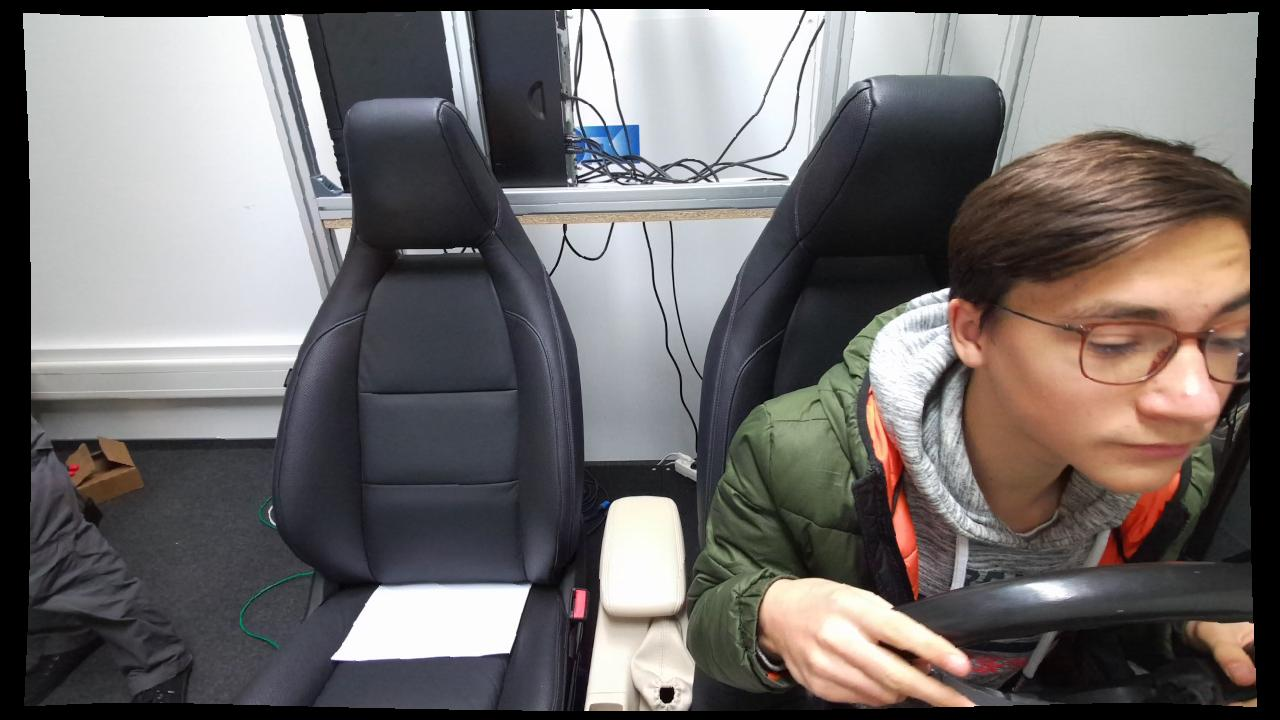Distracted: (686, 133, 1251, 714)
